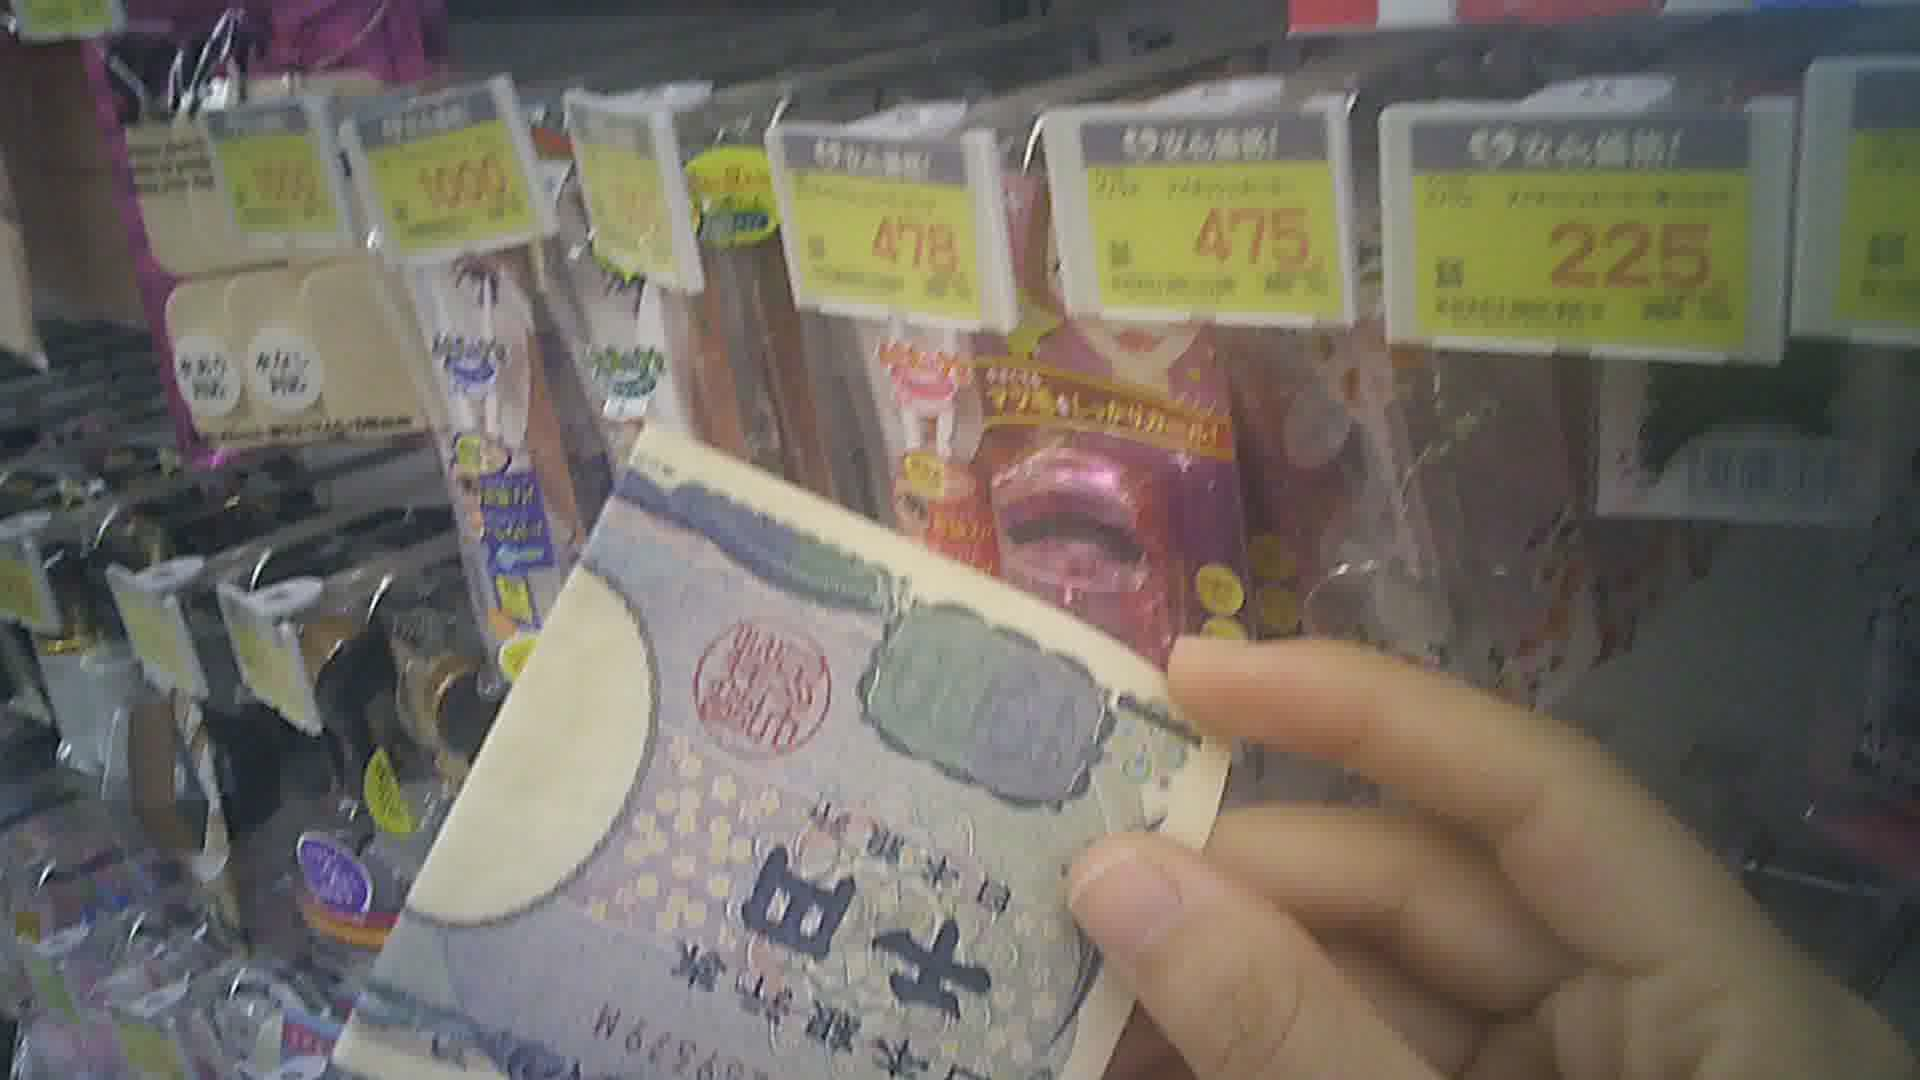1,000 Yen: (335, 397, 1232, 1079)
